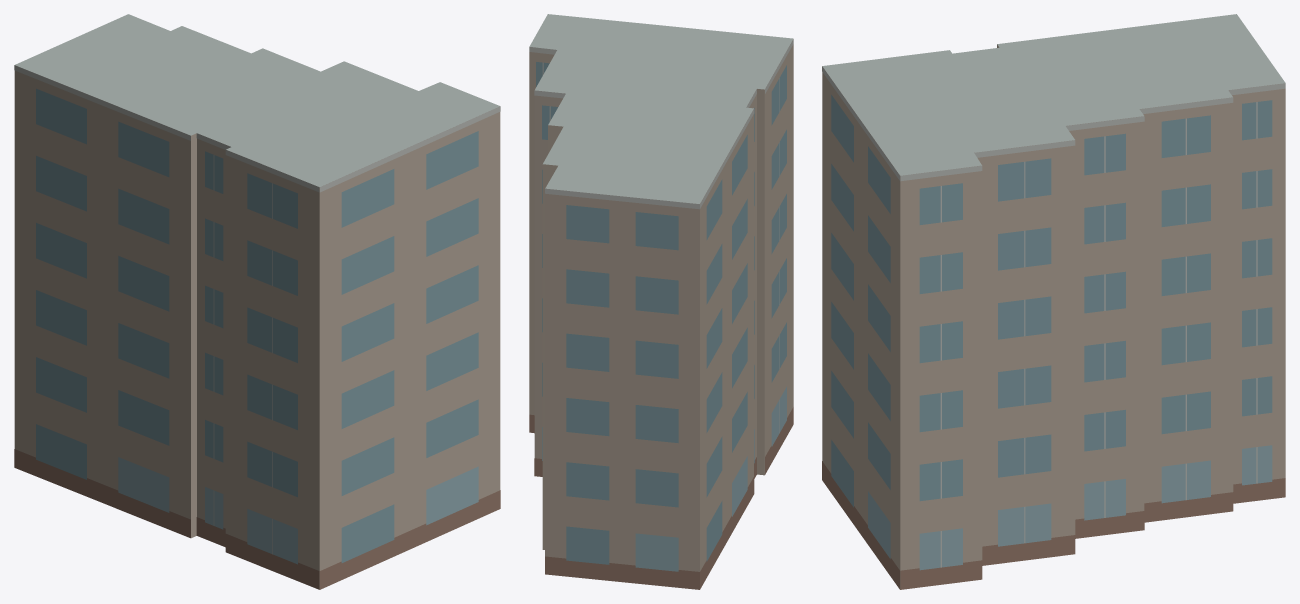
Rendered from survey-upis-32985270.glb.
3 views of the same model, side by side, from view 1: azimuth 30°, elevation 25°; view 2: azimuth 150°, elevation 25°; view 3: azimuth 270°, elevation 25° (orthographic). The views are drawn at different scales.
Visible parts, largest first — view 1: survey-upis-32985270.tmp; view 2: survey-upis-32985270.tmp; view 3: survey-upis-32985270.tmp.
Boxes of the visible parts, x1,y1,x2,y2 form: survey-upis-32985270.tmp: [14, 14, 500, 589]; survey-upis-32985270.tmp: [529, 14, 793, 589]; survey-upis-32985270.tmp: [822, 14, 1285, 589].
Size of the model in its own units: 15.38 by 18.35 by 18.63.
